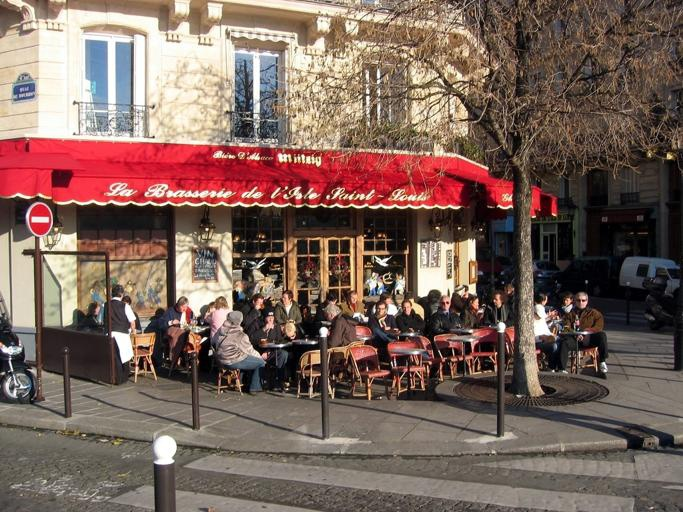non-vehicle: (0, 310, 37, 405), (640, 276, 680, 331)
